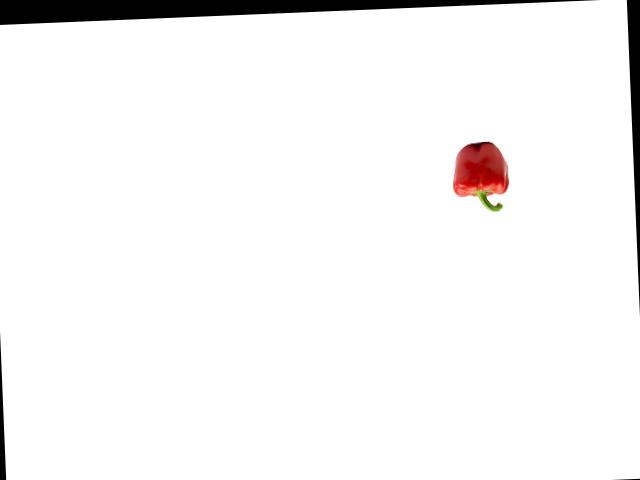bell_pepper: (447, 138, 514, 215)
